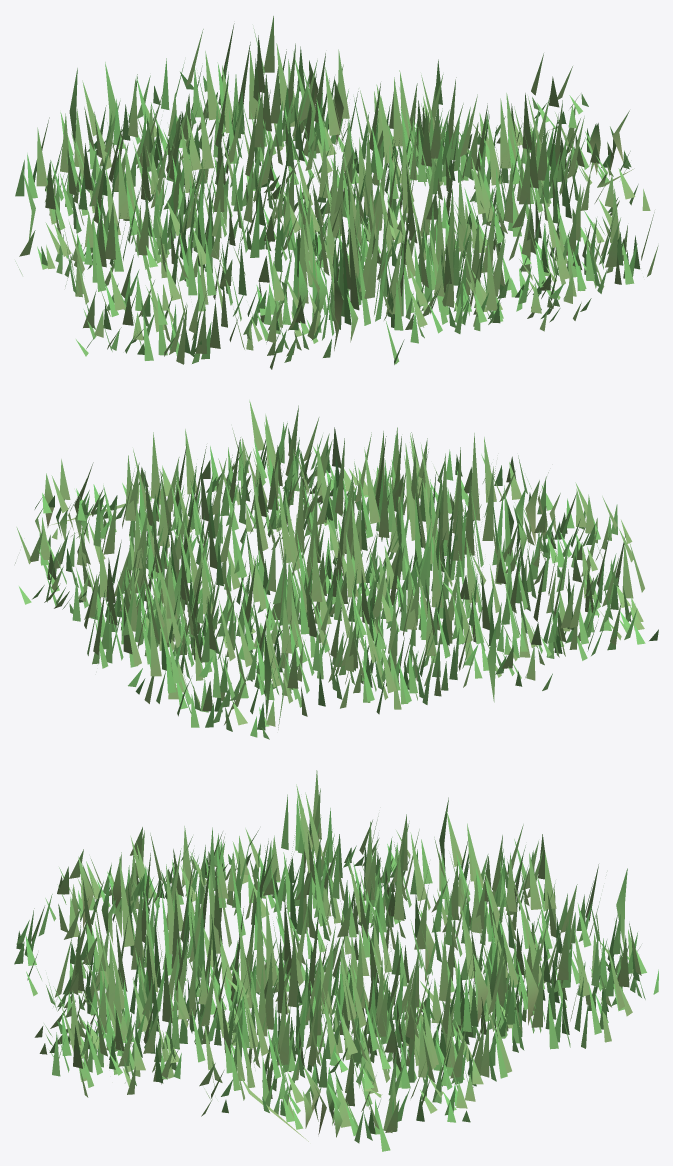
Rendered from grass_circle.fbx.
3 renders of one model, top to bottom at view 1: azimuth 30°, elevation 25°; view 2: azimuth 150°, elevation 25°; view 3: azimuth 270°, elevation 25°, orthographic. The views are drawn at different scales.
Parts seen in each view (by area): view 1: grass_1m_circle; view 2: grass_1m_circle; view 3: grass_1m_circle.
Boxes of the visible parts, x1,y1,x2,y2 form: grass_1m_circle: (15,16,658,369); grass_1m_circle: (15,400,658,739); grass_1m_circle: (14,770,658,1151).
Size of the model in its own units: 84.57 by 15.71 by 78.52.
